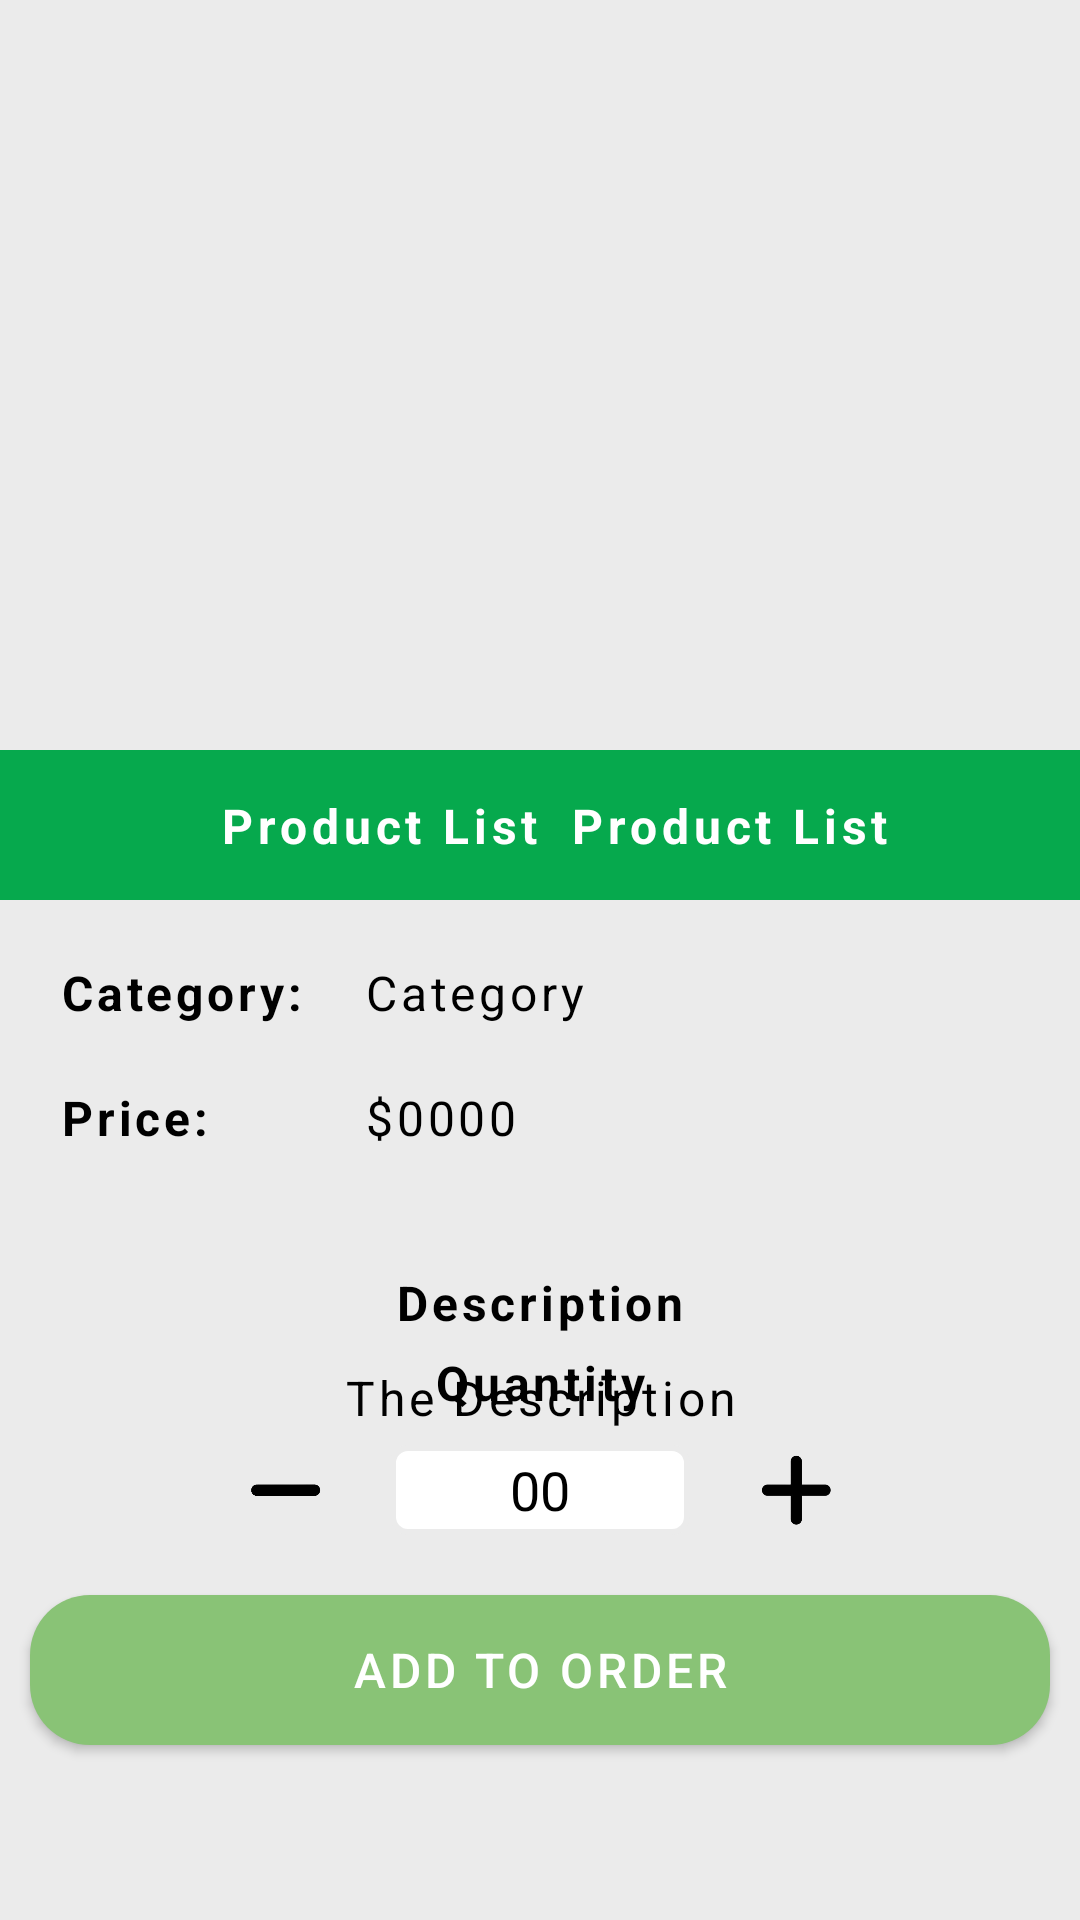

Locate icon controls on the screen. Image size 1080x1920, boxes as (x1, y1, x2, y2).
minus: (251, 1484, 320, 1496)
